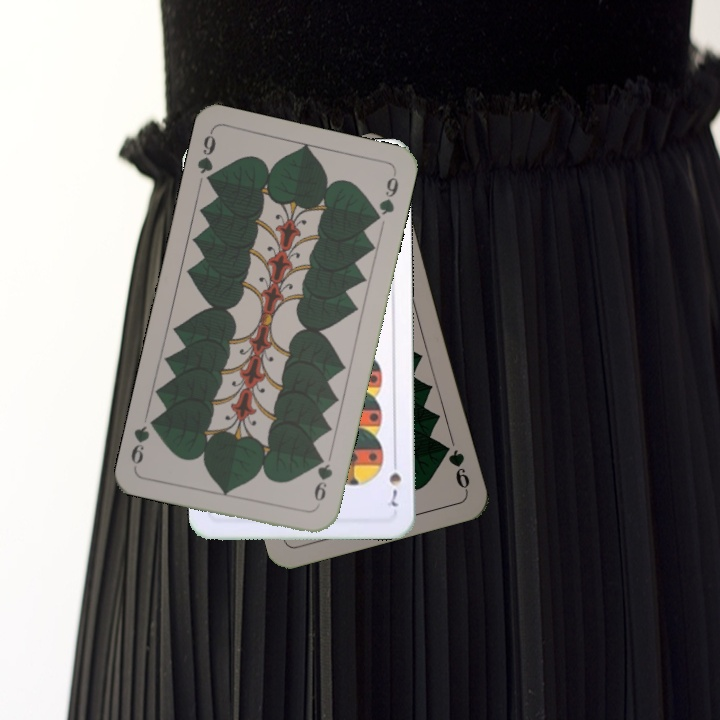G9: (438, 439, 473, 494), (193, 128, 219, 189), (310, 451, 335, 511)
S7: (385, 453, 404, 509)
